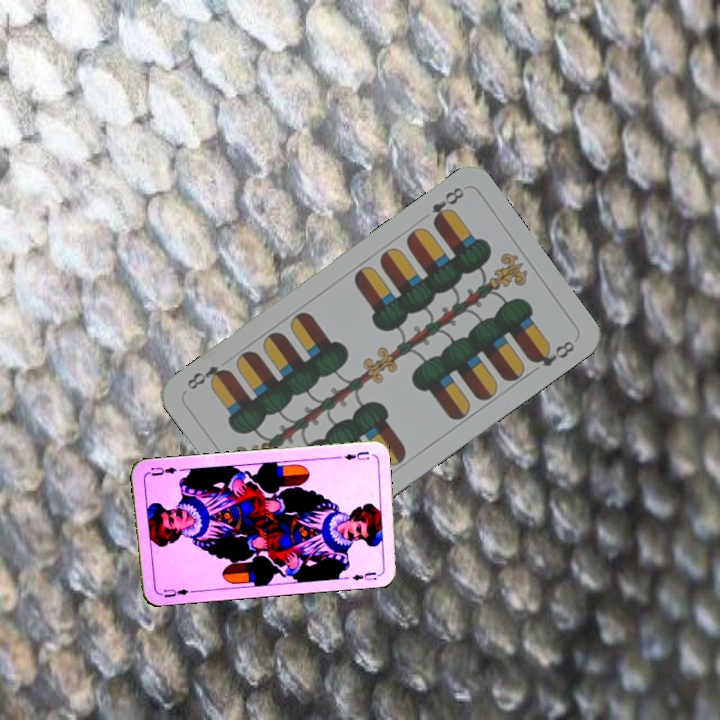E8: (427, 183, 467, 228)
EU: (155, 585, 191, 600), (340, 447, 372, 463)
